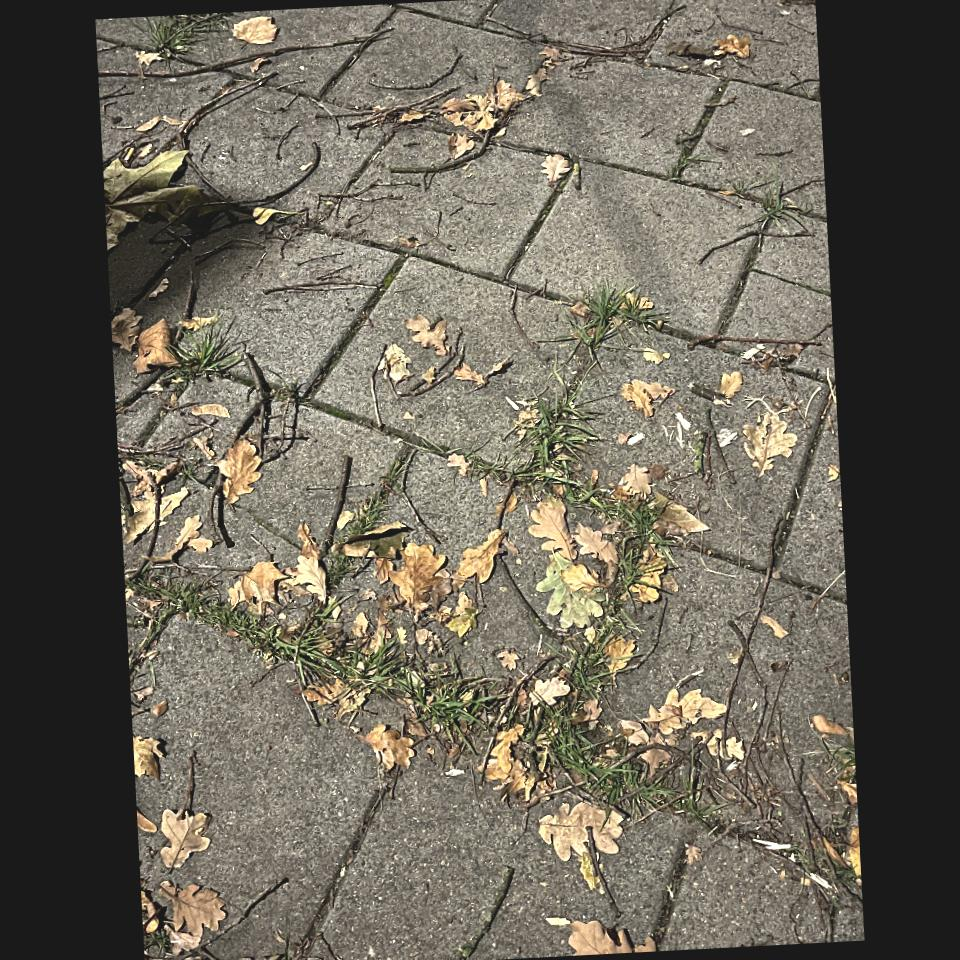weed: (475, 396, 661, 807)
